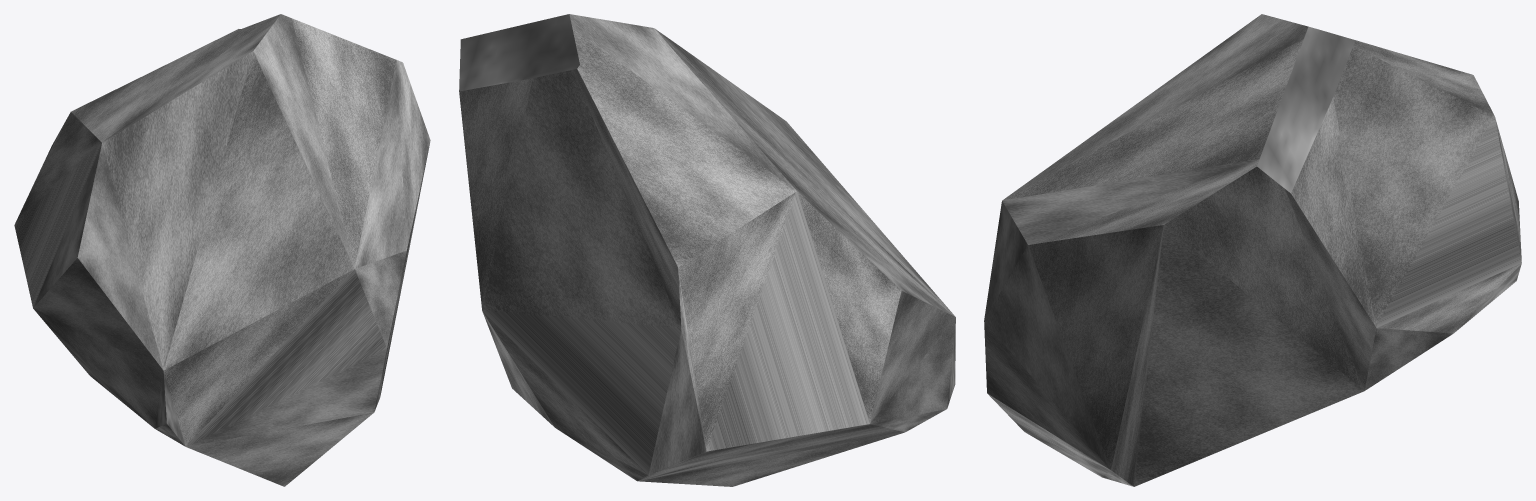
The model's file is body_cell_065.fbx.
The picture shows the model from 3 angles, left to right: view 1: azimuth 30°, elevation 25°; view 2: azimuth 150°, elevation 25°; view 3: azimuth 270°, elevation 25°; orthographic projection. The views are drawn at different scales.
Visible parts, largest first — view 1: body_cell.065; view 2: body_cell.065; view 3: body_cell.065.
Part boxes in pixels (<box>): body_cell.065: <box>14,14,430,486</box>; body_cell.065: <box>459,14,955,486</box>; body_cell.065: <box>984,14,1521,486</box>.
Size of the model in its own units: 50.08 by 53.64 by 53.27.
